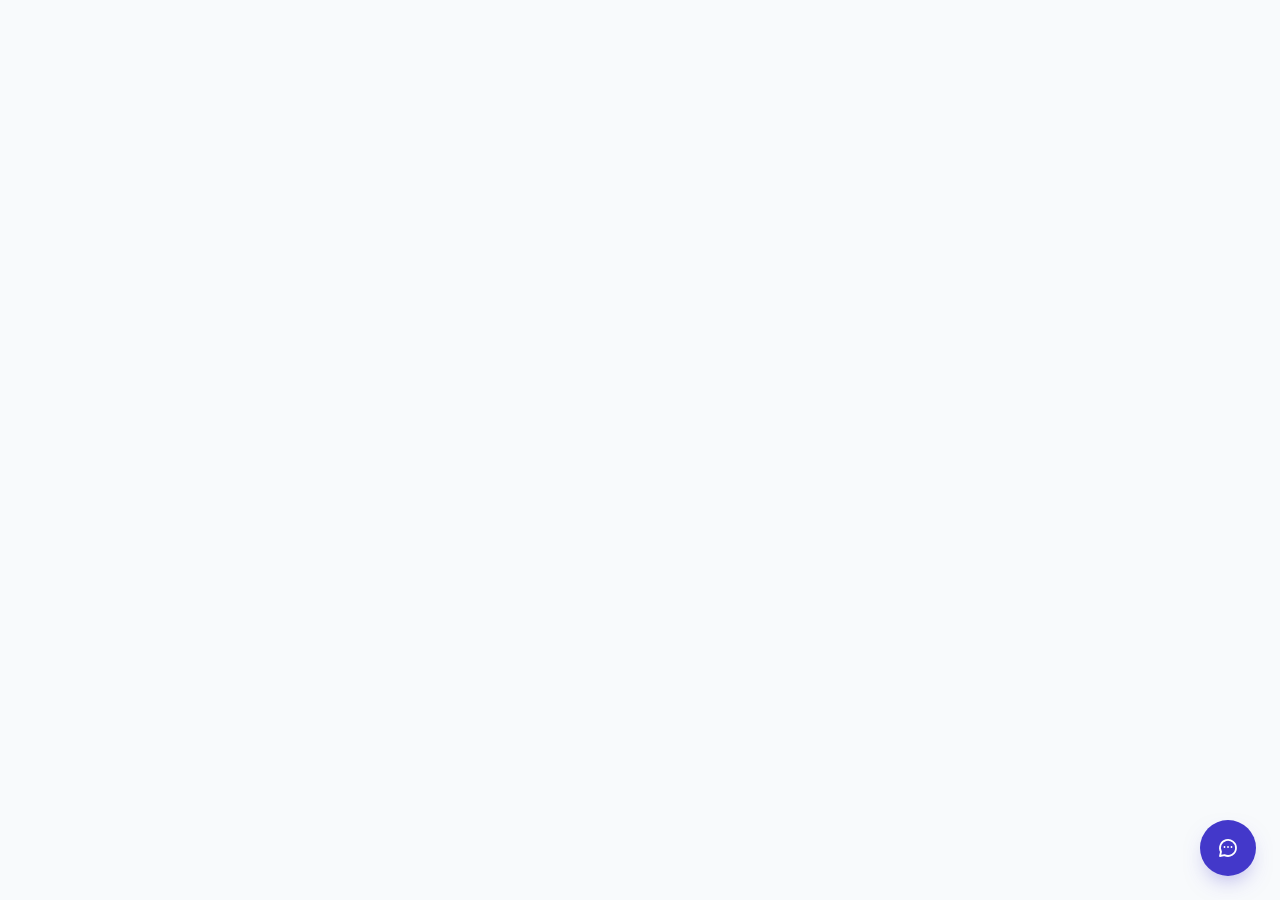
Test case: insufficient evidence is shown gracefully, without sources
The image size is (1280, 900).
Click the button named "Ask PortfolioAI about Irfan's work": (1228, 848) [1200,820,1256,876]
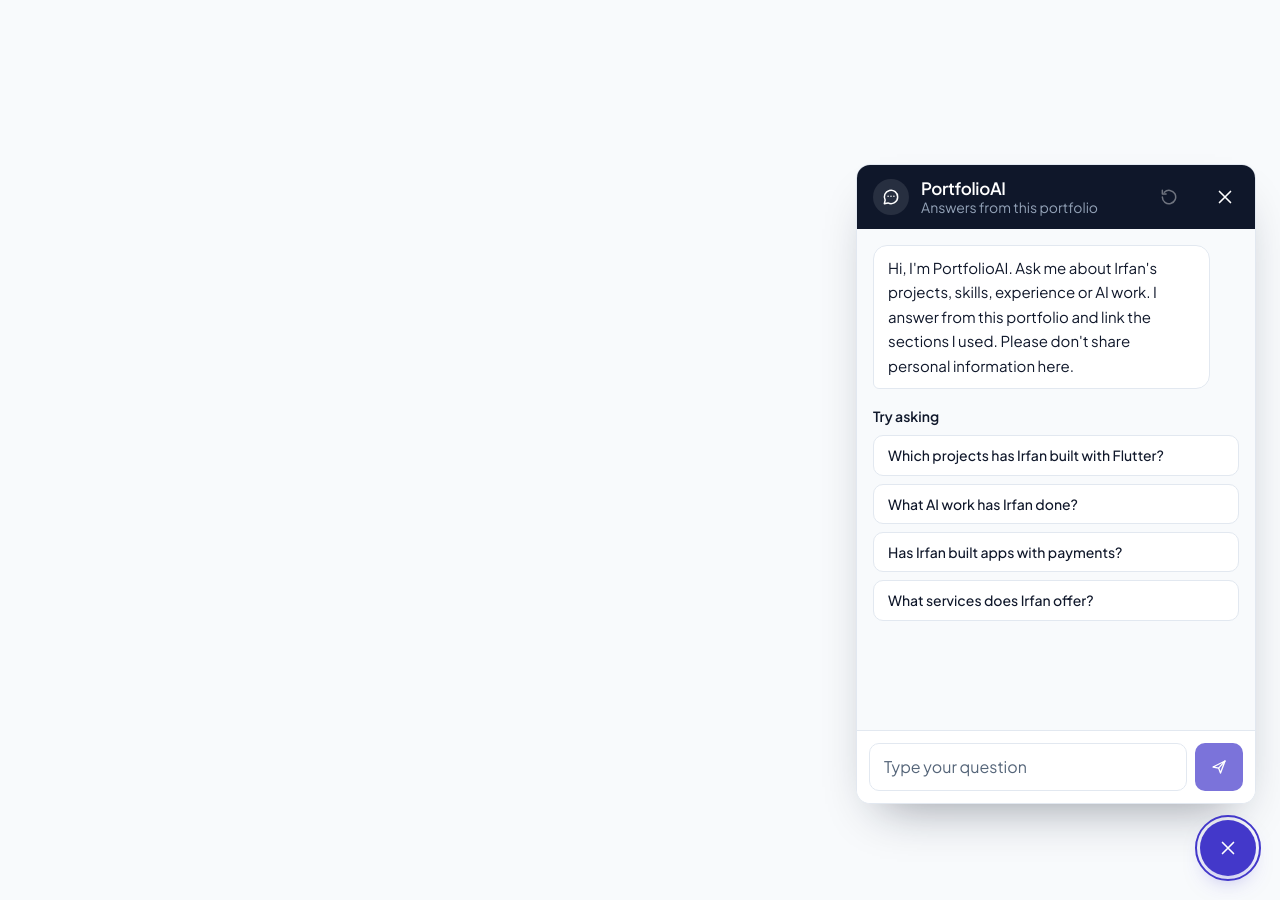
In the text box labelled "your question": (1028, 767) [869,743,1187,791], type "What is his hourly rate?"
Then press Enter
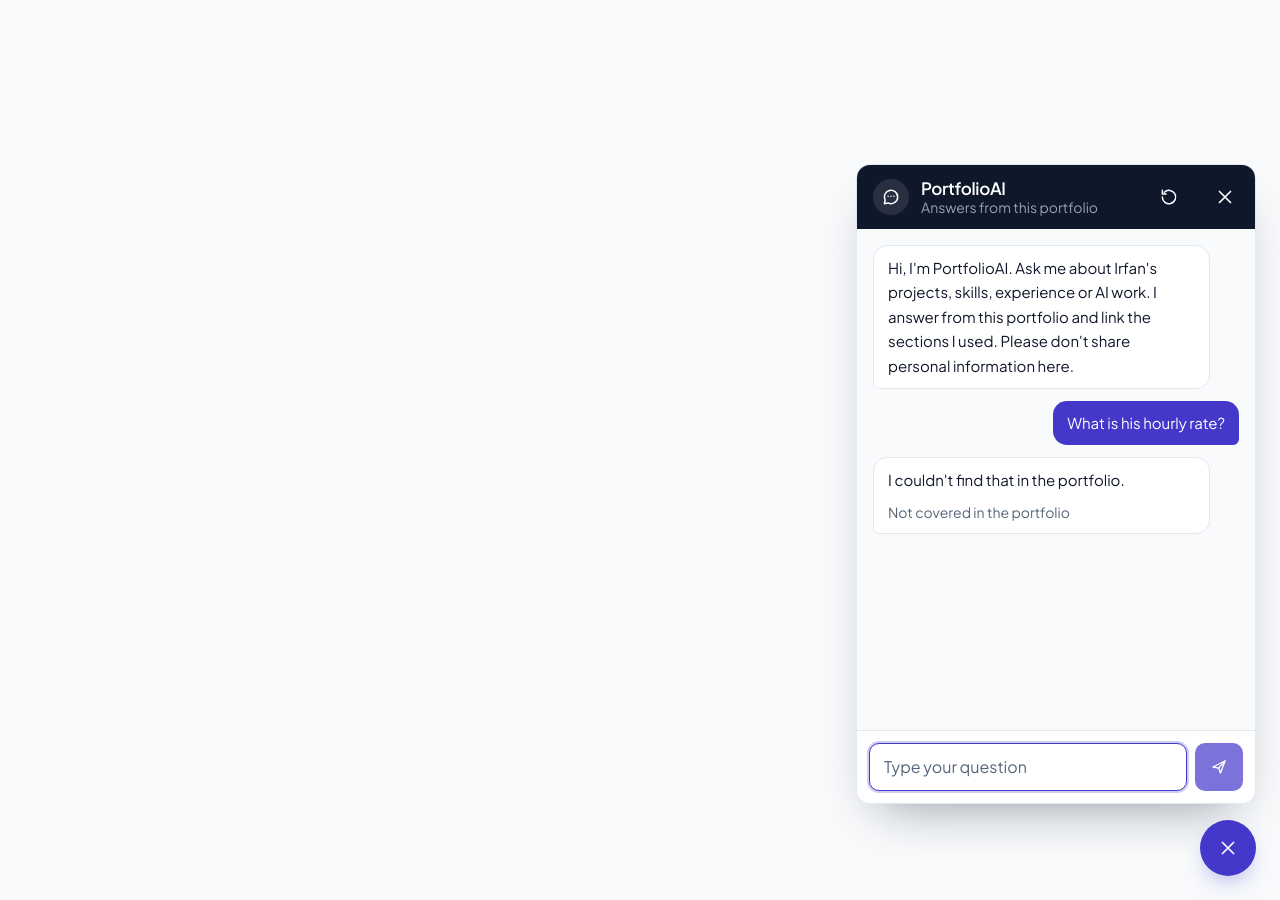
Check: the text "Not covered in the portfolio" is shown, box [888,503,1070,521]
